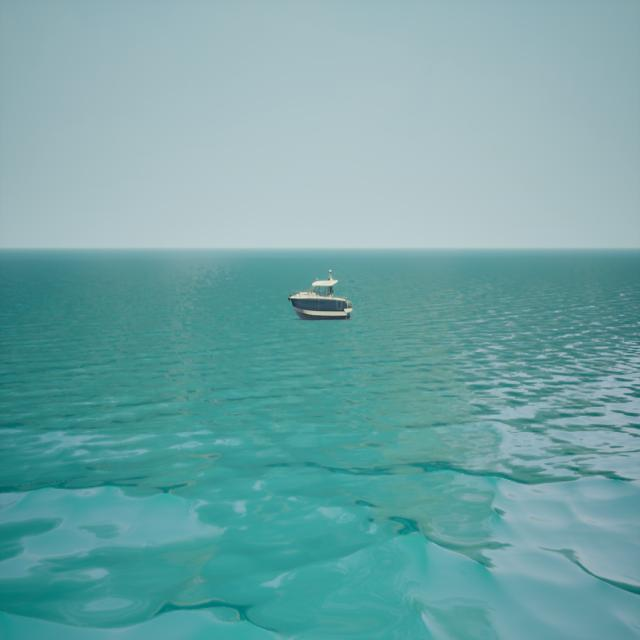ship: (287, 268, 353, 318)
